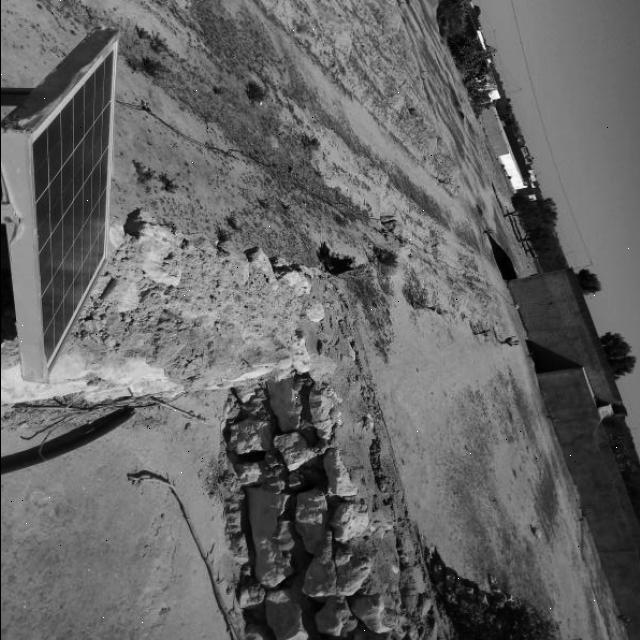Normal Solar Panel: (27, 33, 115, 381)
